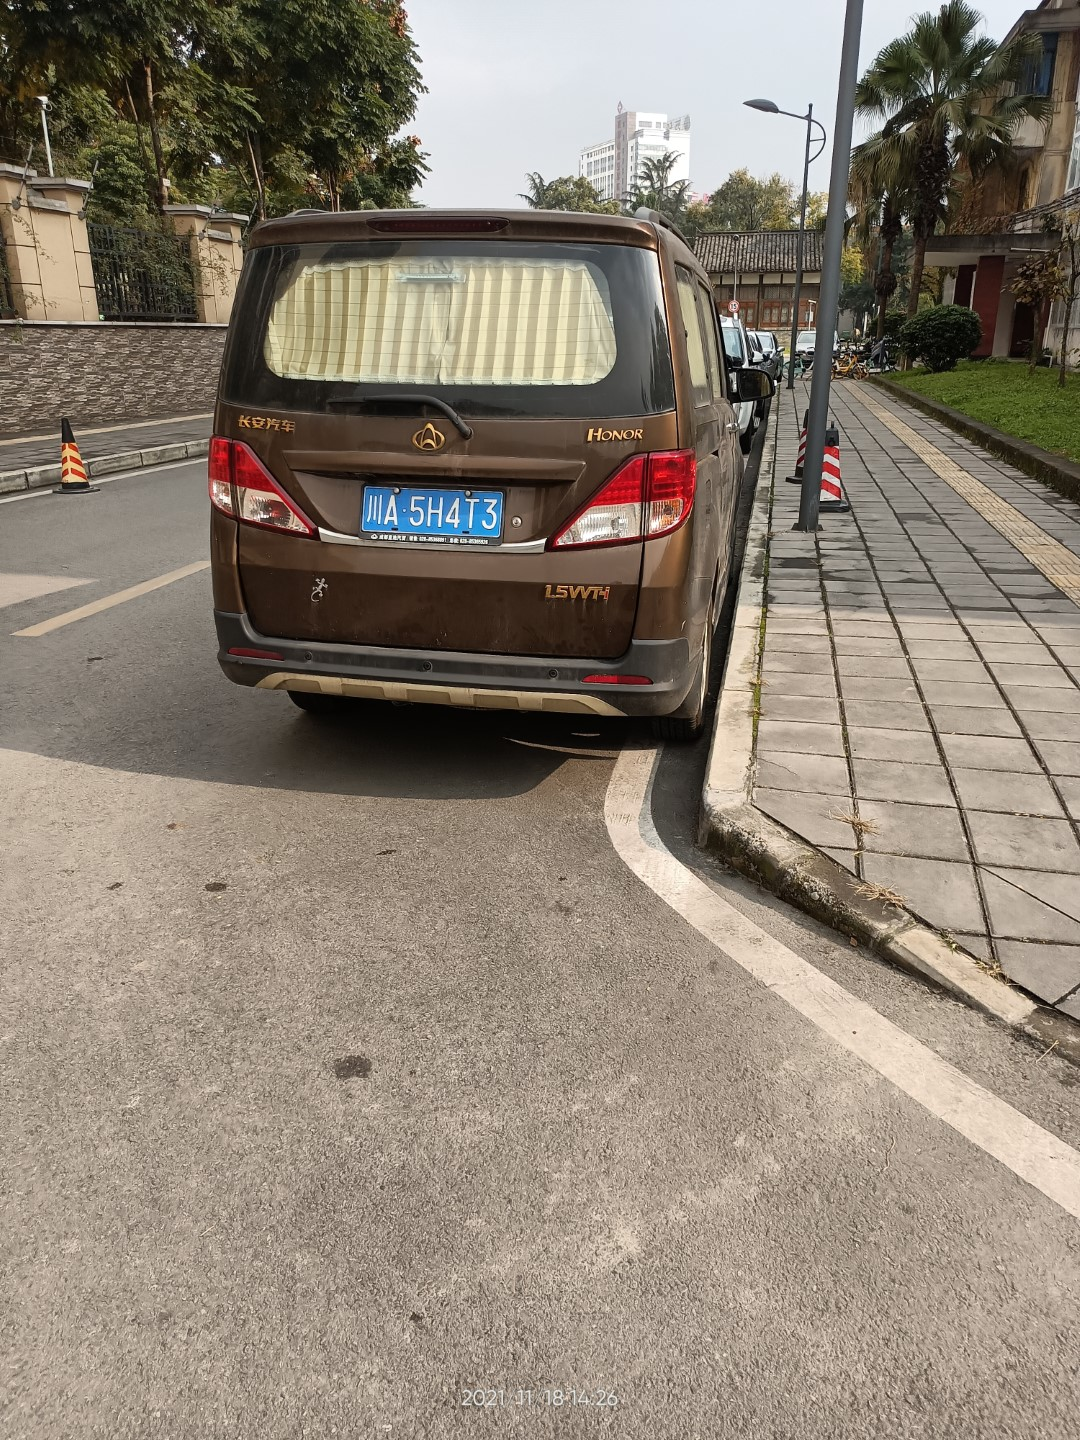plate: (361, 484, 504, 540)
